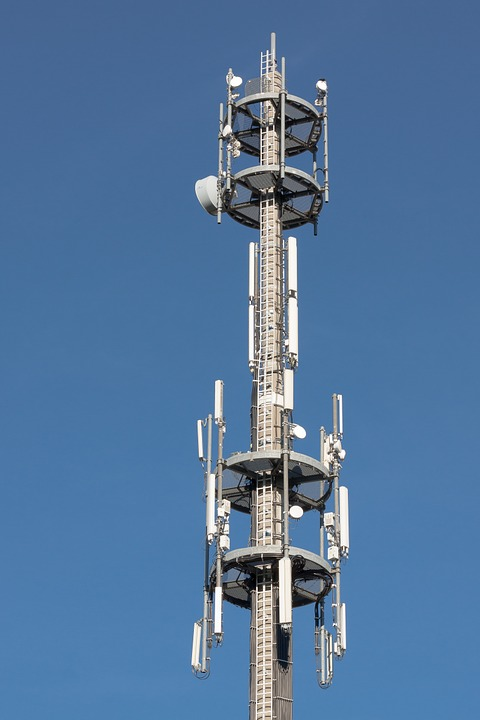a: (285, 235, 304, 363), (247, 241, 255, 370), (279, 558, 292, 626), (204, 472, 217, 538), (338, 486, 350, 555), (337, 602, 349, 650), (213, 586, 224, 636), (190, 625, 203, 666), (195, 418, 207, 462), (281, 368, 293, 412), (215, 377, 224, 425)
b: (194, 176, 225, 215), (293, 425, 307, 440), (228, 74, 241, 88), (291, 506, 301, 519), (318, 79, 326, 93)
